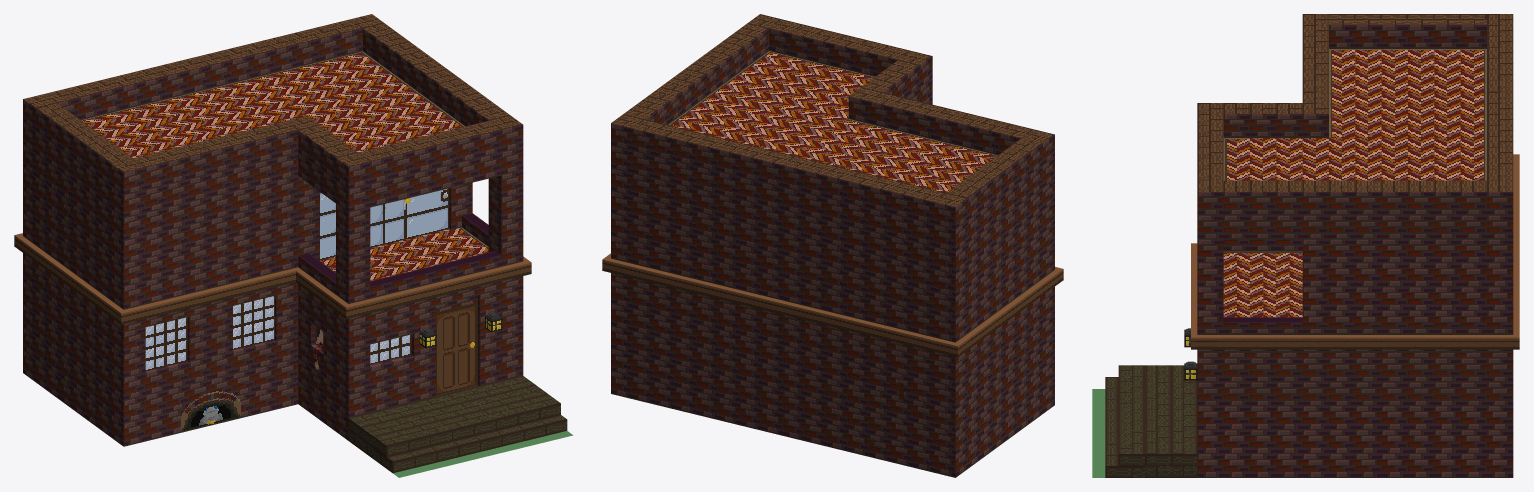
The model's file is Oldtown House 1.gltf.
3 views of the same model, side by side, from view 1: azimuth 30°, elevation 25°; view 2: azimuth 150°, elevation 25°; view 3: azimuth 270°, elevation 25° (orthographic). The views are drawn at different scales.
Size of the model in its own units: 16.5 by 12 by 16.25.
Materials: 2 (2 with a texture image).
